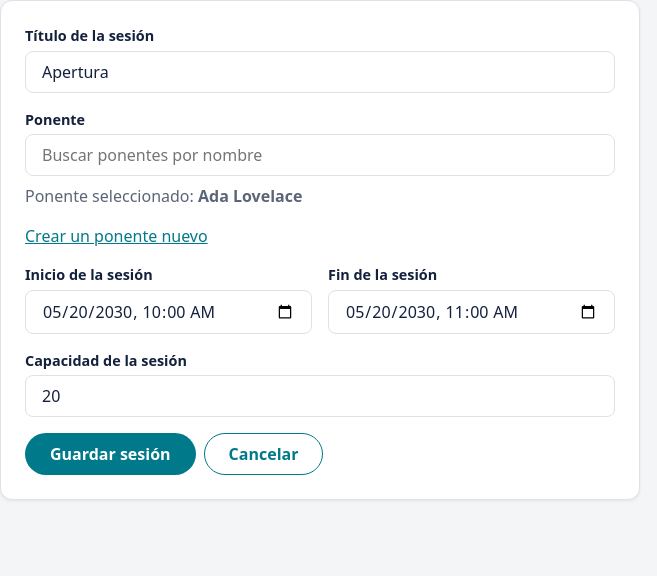
Test case: SessionForm › falls back to a generic message when the rejection is not an error
The width and height of the screenshot is (657, 576).
Click the button "Guardar sesión" at (110, 454), box [25,433,196,475]
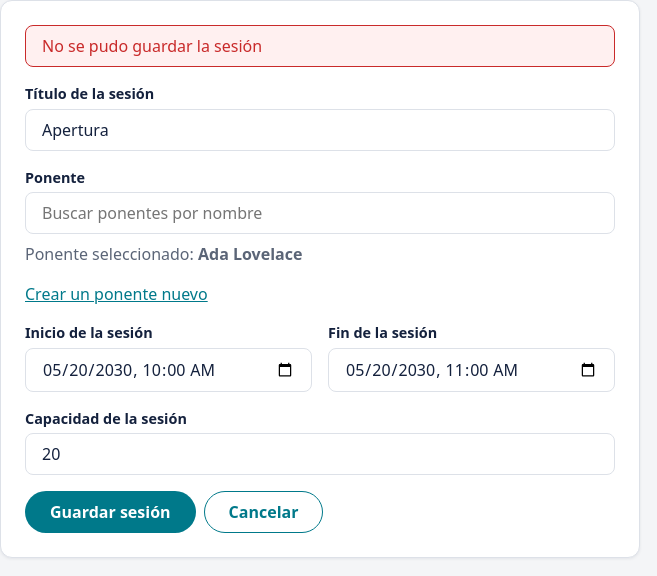
Expected: the message reads "No se pudo guardar la sesión", [42,35,262,57]
